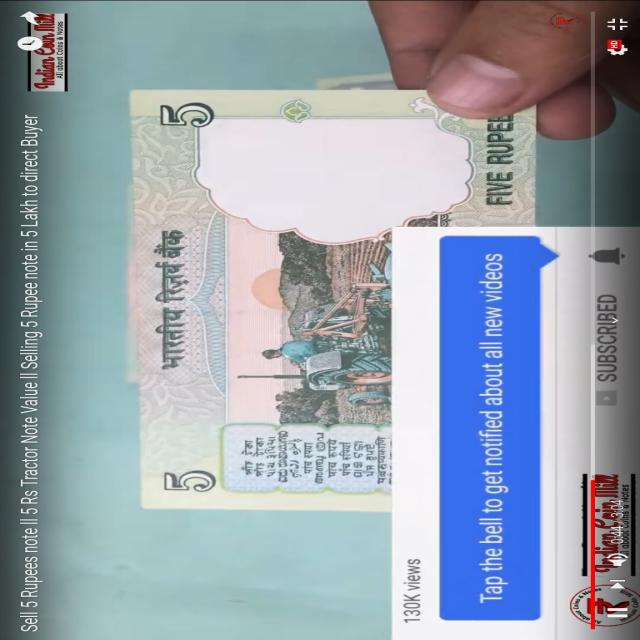5IndianRupees: (127, 91, 533, 508)
